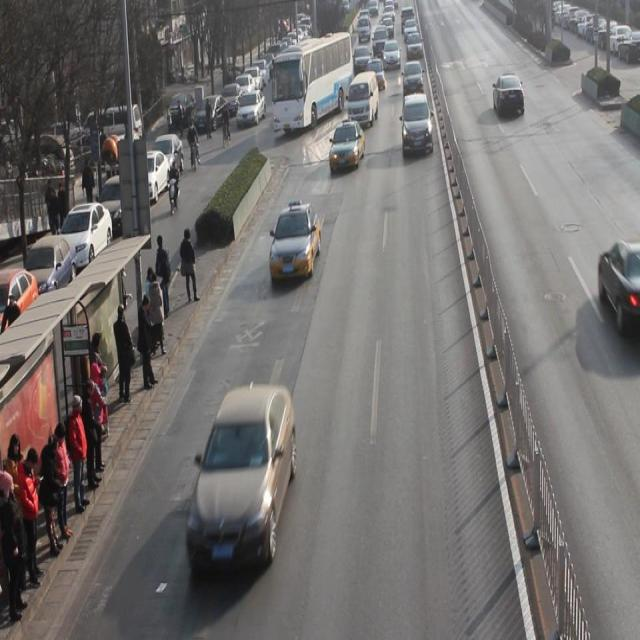car: (188, 384, 297, 574), (270, 204, 322, 283), (400, 93, 434, 156), (328, 120, 366, 172), (492, 73, 525, 118), (402, 59, 424, 97)
truck: (348, 70, 380, 124)
van: (272, 32, 351, 134)
